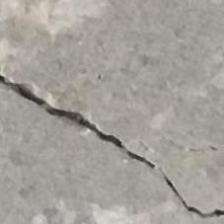Crack: (18, 60, 223, 224)
